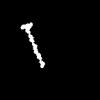half_double_crochet: (21, 23, 44, 67)
